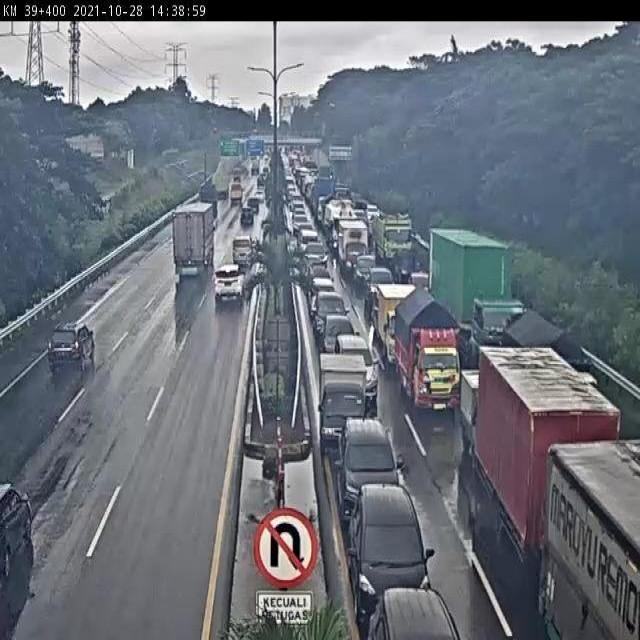big truck: (477, 345, 621, 620), (427, 227, 524, 385), (173, 200, 217, 277)
car: (347, 481, 438, 624), (337, 419, 406, 528), (363, 574, 459, 640), (316, 353, 373, 460), (373, 205, 418, 276), (47, 323, 98, 372), (322, 312, 359, 368), (311, 292, 350, 345), (212, 263, 247, 308), (366, 266, 395, 314), (308, 276, 338, 319), (304, 242, 328, 274), (232, 234, 255, 266), (355, 255, 377, 288), (239, 205, 254, 227)
small truck: (499, 308, 596, 452), (394, 281, 464, 415), (376, 286, 422, 370), (337, 219, 370, 277), (199, 180, 219, 212)
